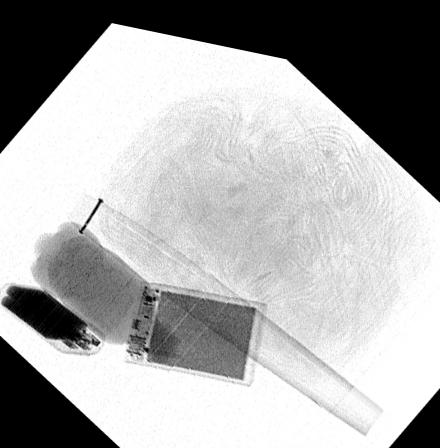Powerbank: (122, 275, 267, 373), (0, 281, 103, 349)
